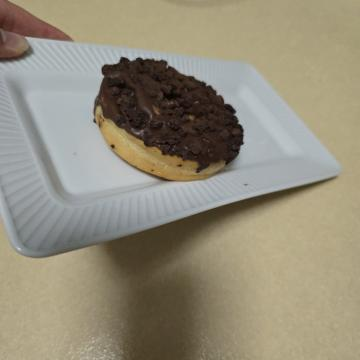doughnut: (52, 110, 197, 289)
